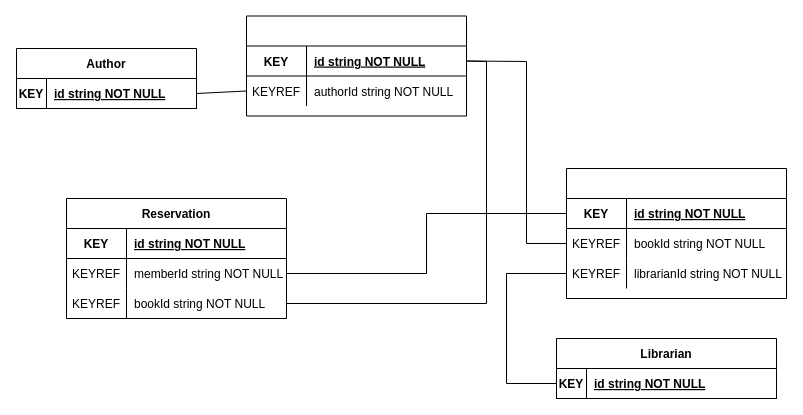
The diagram is 803 pixels wide and 415 high, and some of its shapes have lost their labels. The box of each missing label's shape, as (x1, y1, x2, y2) in pixels:
Book: (246, 15, 466, 116)
Member: (566, 168, 786, 298)
